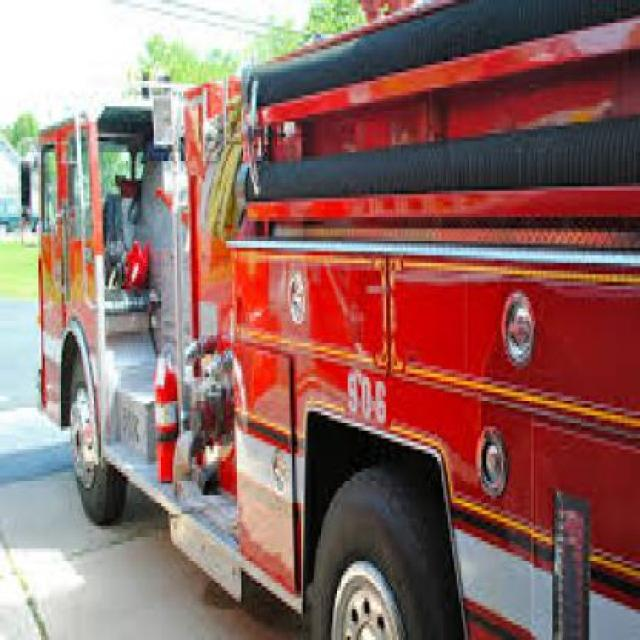Fire Truck: (20, 72, 638, 637)
